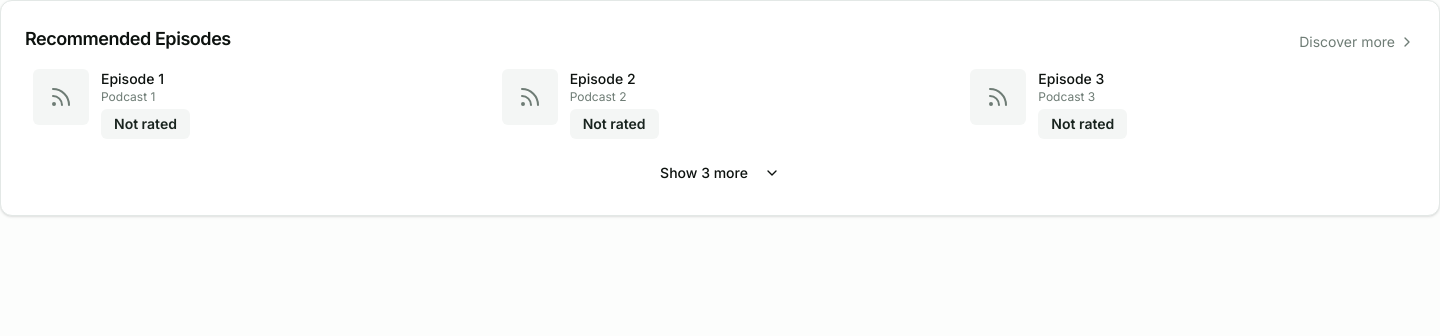
Test: EpisodeRecommendations › shows all episodes after clicking the expand button
Click the button "Show 3 more": (720, 173) [25,155,1415,191]
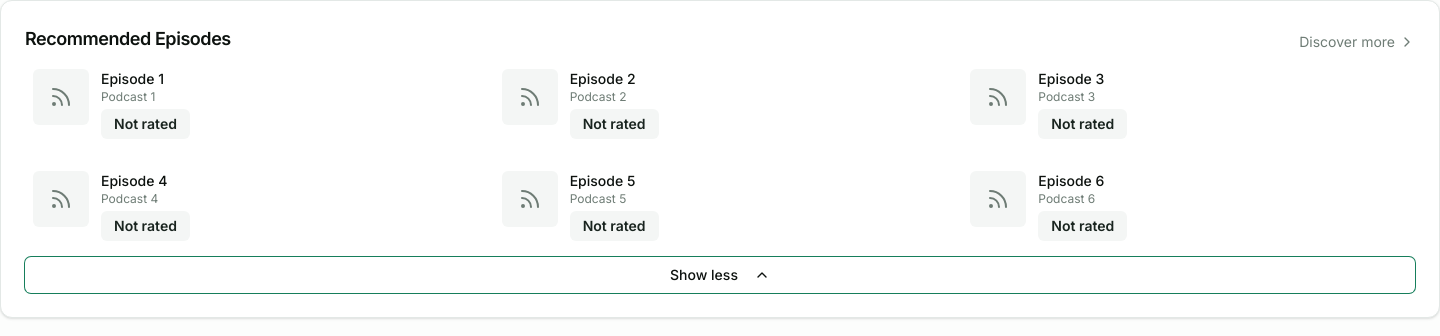
Now the number of links "Episode 1 Podcast 1 Not rated" is 6, box [33,69,190,139]; [502,69,659,139]; [970,69,1127,139]; [33,171,190,241]; [502,171,659,241]; [970,171,1127,241]
